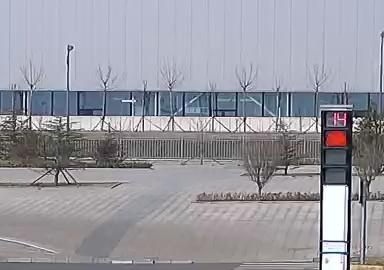red: (326, 131, 345, 147)
redtime: (328, 112, 351, 127)
